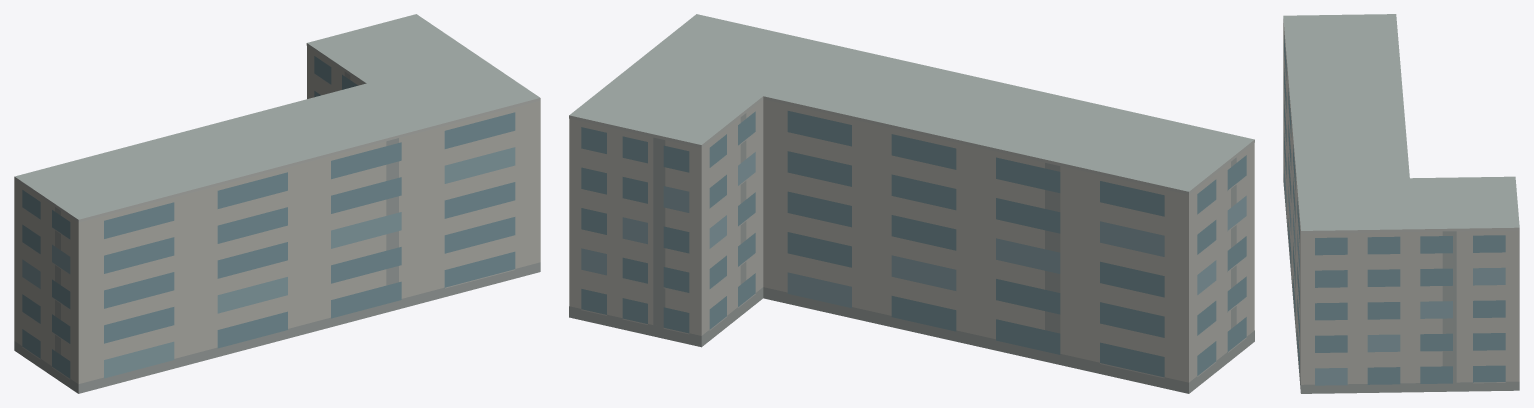
File: residential-e224a141-1382-4edf-afe2-04476ed69956.glb
The picture shows the model from 3 angles, left to right: view 1: azimuth 30°, elevation 25°; view 2: azimuth 150°, elevation 25°; view 3: azimuth 270°, elevation 25°; orthographic projection. The views are drawn at different scales.
Parts seen in each view (by area): view 1: residential-e224a141-1382-4edf-afe2-04476ed69956.tmp; view 2: residential-e224a141-1382-4edf-afe2-04476ed69956.tmp; view 3: residential-e224a141-1382-4edf-afe2-04476ed69956.tmp.
Part boxes in pixels (x1,y1,x2,y2): residential-e224a141-1382-4edf-afe2-04476ed69956.tmp: (14, 14, 540, 393); residential-e224a141-1382-4edf-afe2-04476ed69956.tmp: (569, 14, 1254, 393); residential-e224a141-1382-4edf-afe2-04476ed69956.tmp: (1283, 14, 1519, 393).
Bounding box in the file's own units: 43.56 × 15.25 × 20.07.
